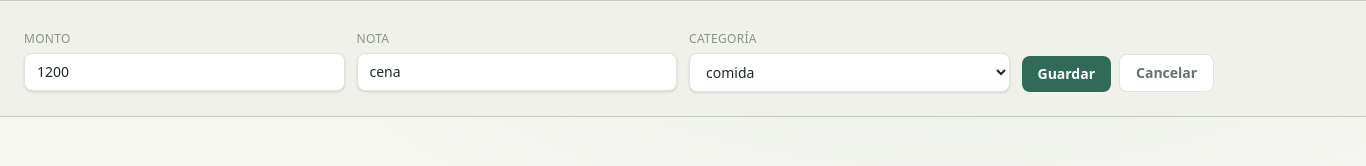
Test case: MovementEditForm › shows a Spanish error when the patch fails and keeps the form open
Check: the dropdown labelled "Categoría" is shown, box [689,53,1010,92]
Replace the text in the number field labelled "Monto" with "999": [184, 72] box [24,53,344,91]
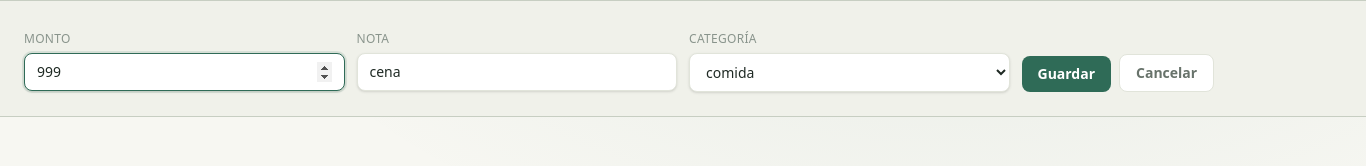
Click the button "Guardar": [1066, 74] box [1022,56,1111,92]
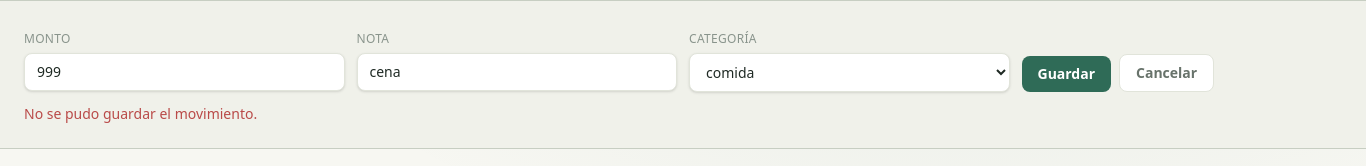
Check: the message shows "No se pudo", box [24,104,257,123]
